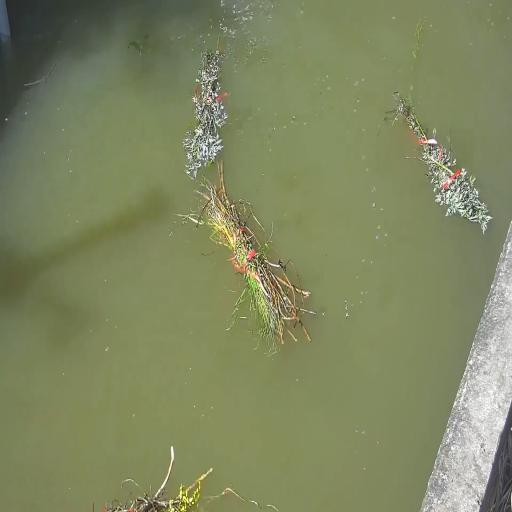twig: (182, 161, 315, 348), (387, 91, 492, 233), (103, 446, 213, 512), (183, 35, 228, 178)
